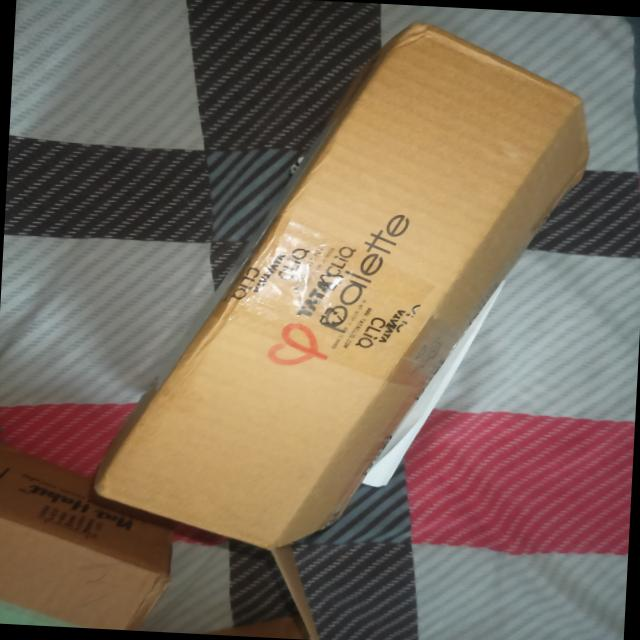cardboard_box: (44, 2, 640, 589)
